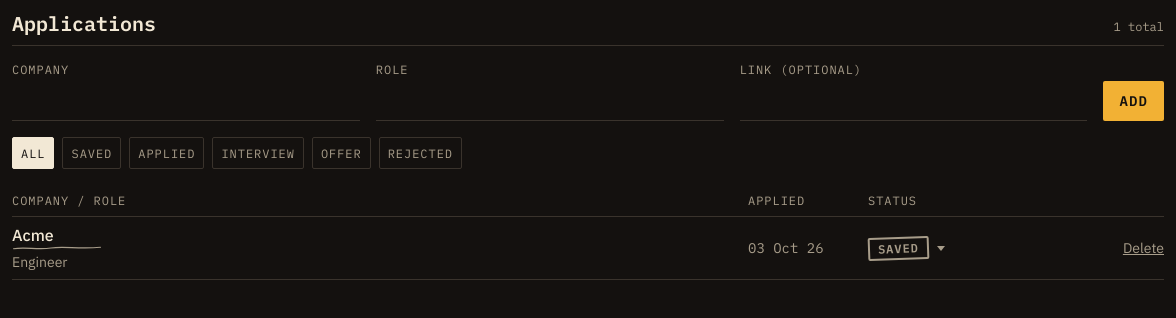
Scenario: ApplicationsList › filters by status through the query
expect the link "Acme" is shown: met, box [12,225,54,245]
Click the button "interview": x=258, y=153 [212,137,304,169]
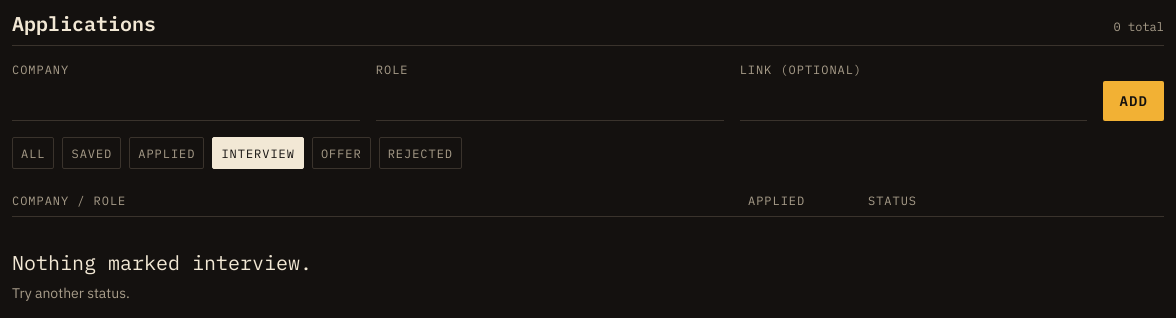
expect the text "Nothing marked interview." is shown: met, box [12,249,312,276]
